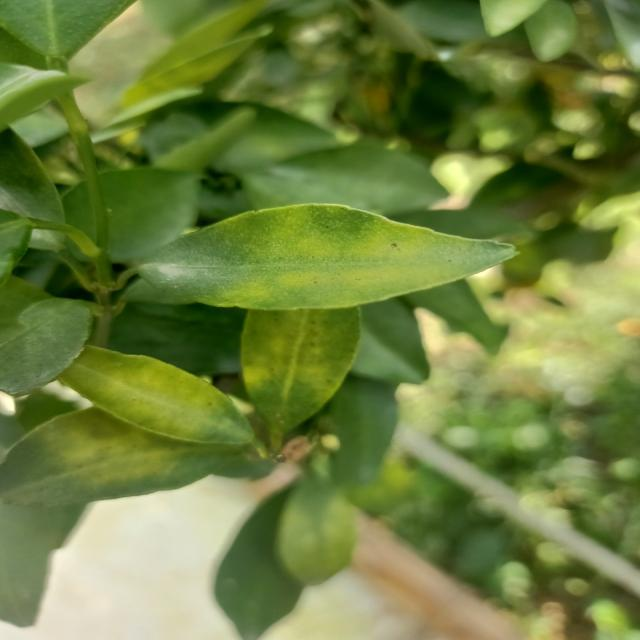blackspot: (173, 206, 482, 304), (64, 340, 255, 445), (0, 412, 218, 495), (239, 301, 357, 425)
